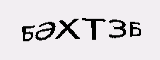М: (111, 26, 131, 51)
Н: (98, 24, 108, 46)
О: (78, 20, 95, 45)
У: (27, 15, 46, 43)
Ю: (47, 17, 76, 46)
